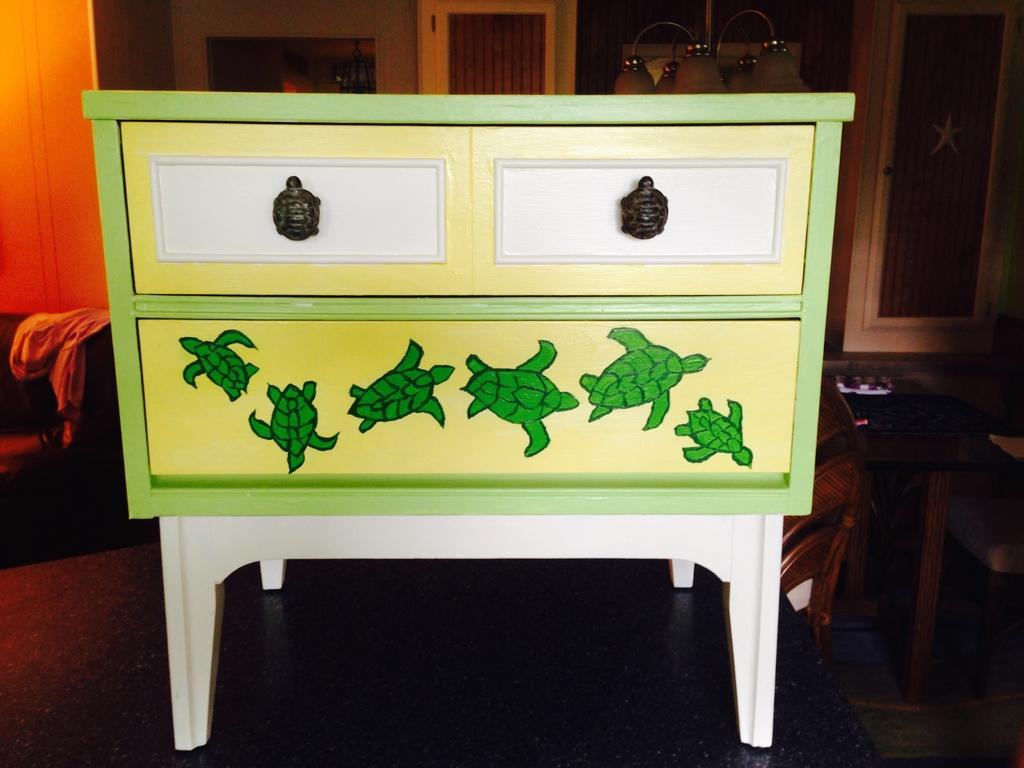cabinet_door: (140, 324, 786, 481), (120, 126, 470, 280), (470, 140, 800, 298), (882, 26, 994, 322)
handle: (618, 175, 672, 250), (264, 182, 319, 244)
